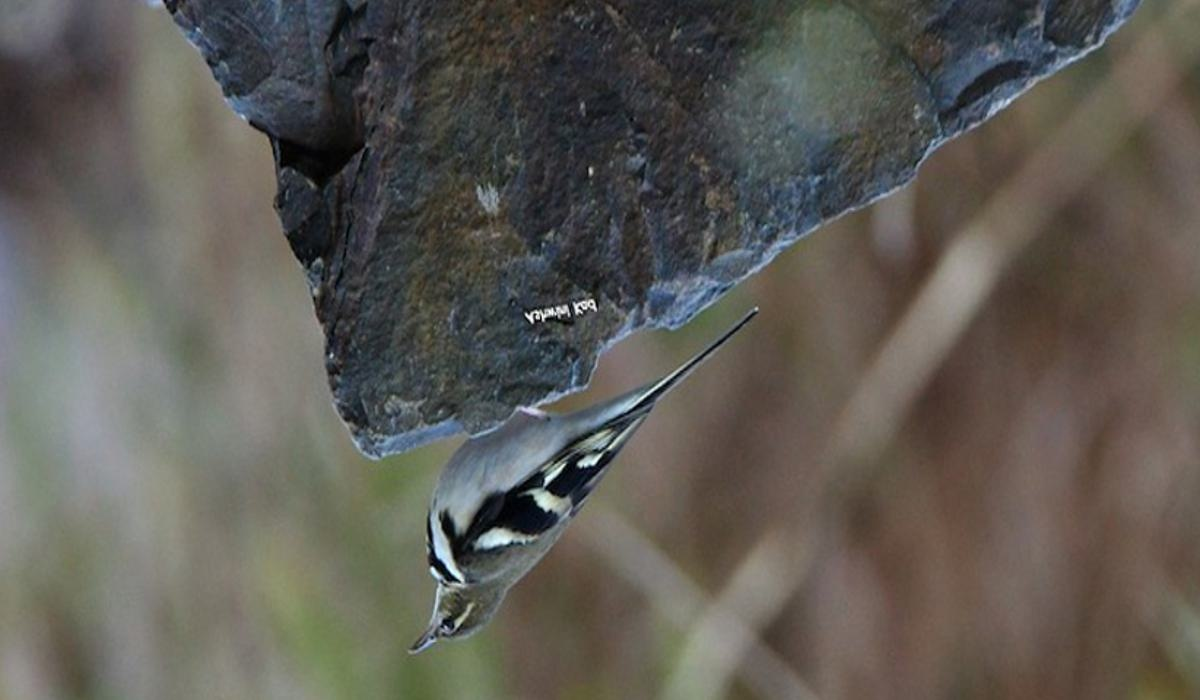wagtail: (405, 298, 776, 657)
